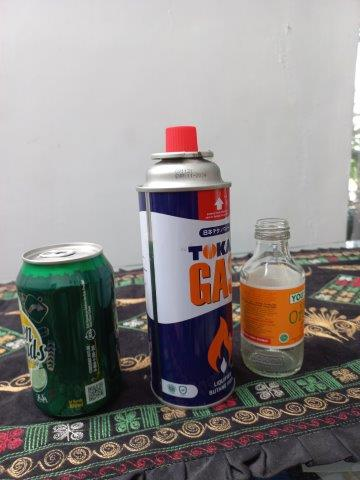botolkaca: (240, 220, 306, 376)
kaleng: (137, 126, 233, 407), (16, 243, 121, 418)
